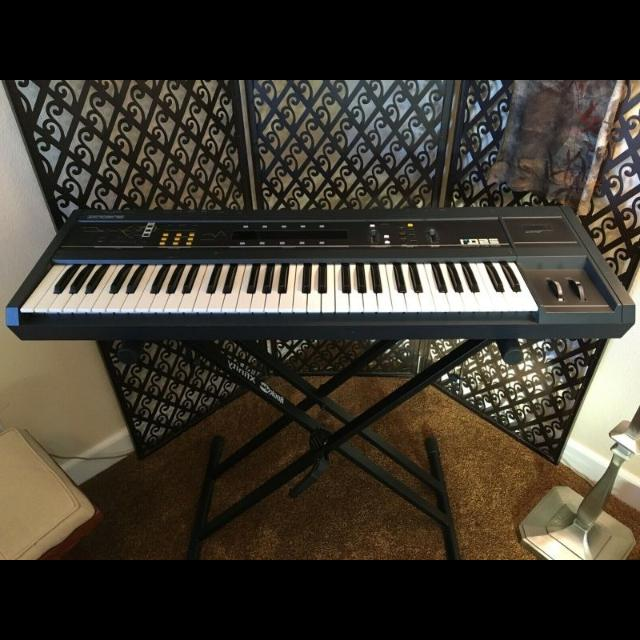Electronic-Keyboard: (11, 208, 631, 340)
